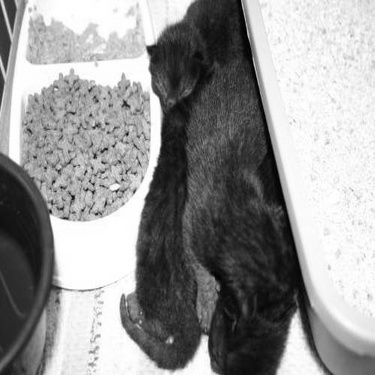cat: (106, 1, 303, 362)
